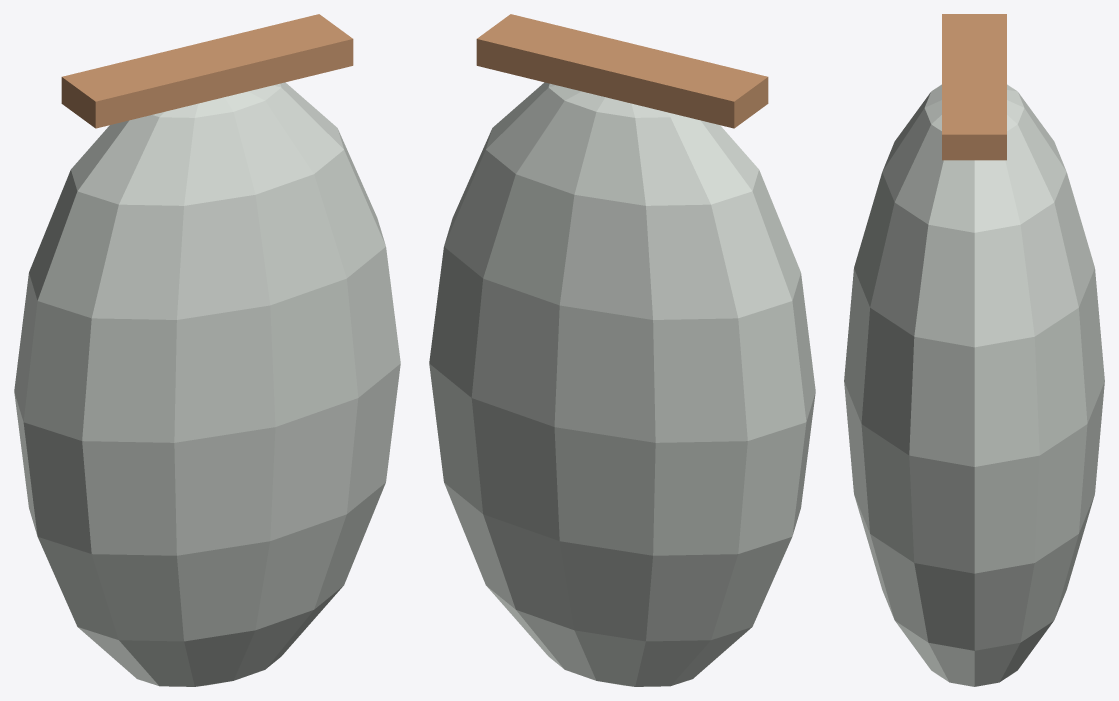
The model's file is bulk-powder-sack.glb.
The picture shows the model from 3 angles, left to right: view 1: azimuth 30°, elevation 25°; view 2: azimuth 150°, elevation 25°; view 3: azimuth 270°, elevation 25°; orthographic projection. The views are drawn at different scales.
Parts seen in each view (by area): view 1: cream, copper; view 2: cream, copper; view 3: cream, copper.
Boxes of the visible parts, x1,y1,x2,y2 form: cream: (14,82,400,686); copper: (61,14,353,128); cream: (429,82,815,686); copper: (476,14,768,128); cream: (844,84,1104,686); copper: (942,14,1006,160).
Size of the model in its own units: 0.5 by 0.815 by 0.32.
